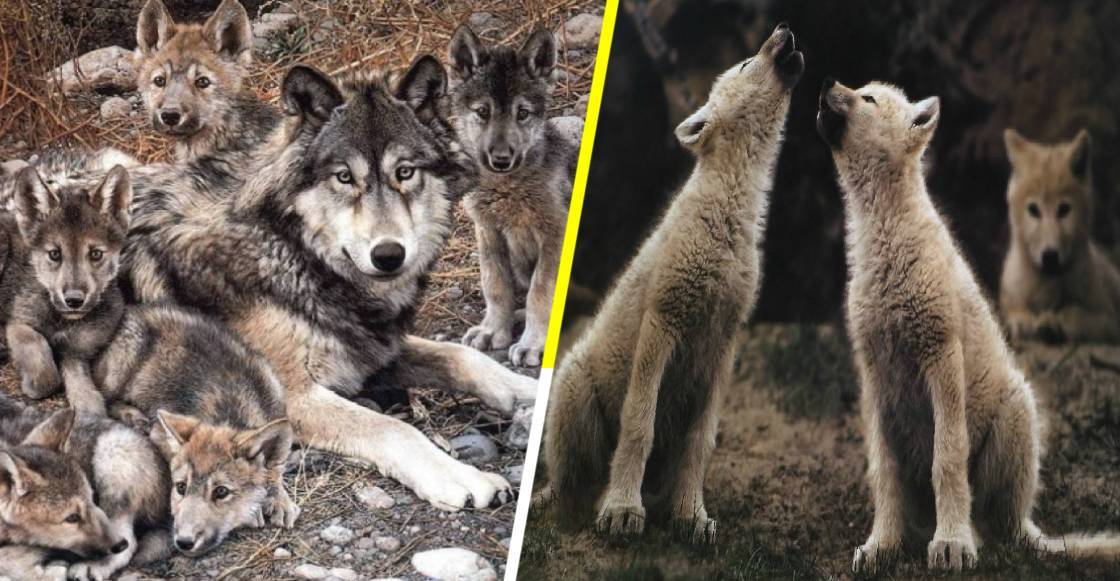Lobo: (177, 73, 512, 483), (812, 54, 1071, 559), (607, 17, 803, 522), (450, 17, 579, 316), (978, 99, 1109, 299), (11, 153, 147, 338), (8, 403, 147, 566), (155, 399, 299, 550), (112, 16, 249, 145)
